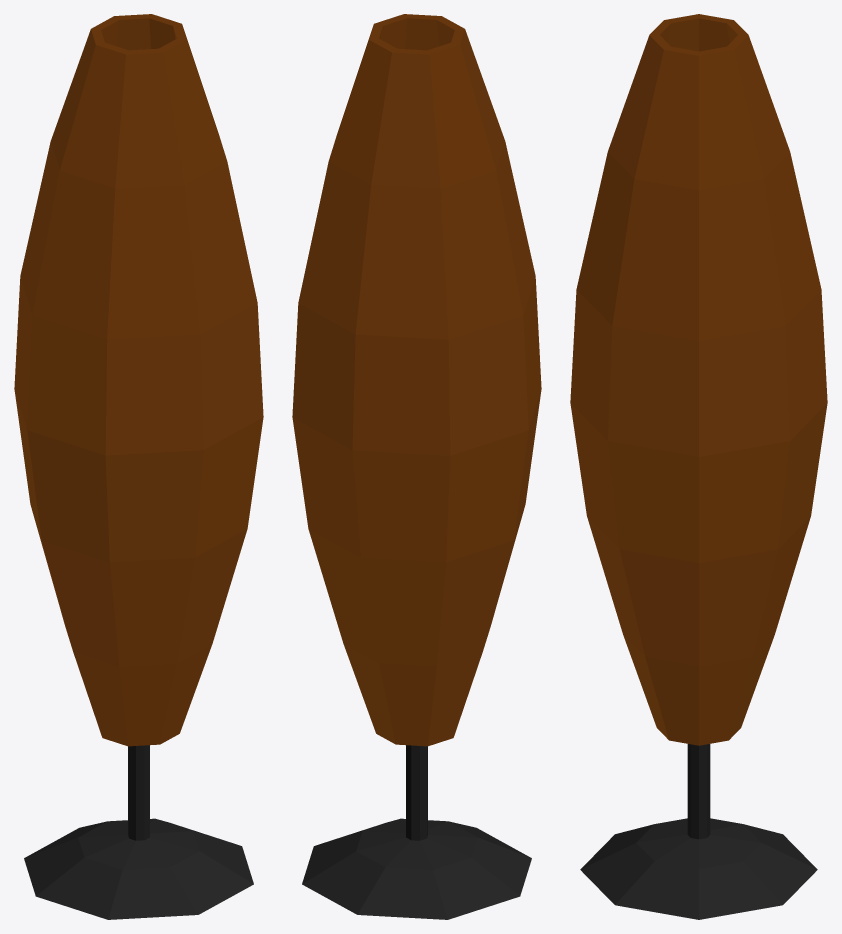
File: IkeaLight_On.glb
3 views of the same model, side by side, from view 1: azimuth 30°, elevation 25°; view 2: azimuth 150°, elevation 25°; view 3: azimuth 270°, elevation 25° (orthographic).
Visible parts, largest first — view 1: ikeaFloorLamp_On; view 2: ikeaFloorLamp_On; view 3: ikeaFloorLamp_On.
Boxes of the visible parts, <box> form: ikeaFloorLamp_On: <box>14,14,263,919</box>; ikeaFloorLamp_On: <box>292,14,541,919</box>; ikeaFloorLamp_On: <box>570,14,827,919</box>.
Size of what is drawn, in the model's own units: 0.3859 by 1.38 by 0.3859.
Materials: 2 (2 with a texture image).
